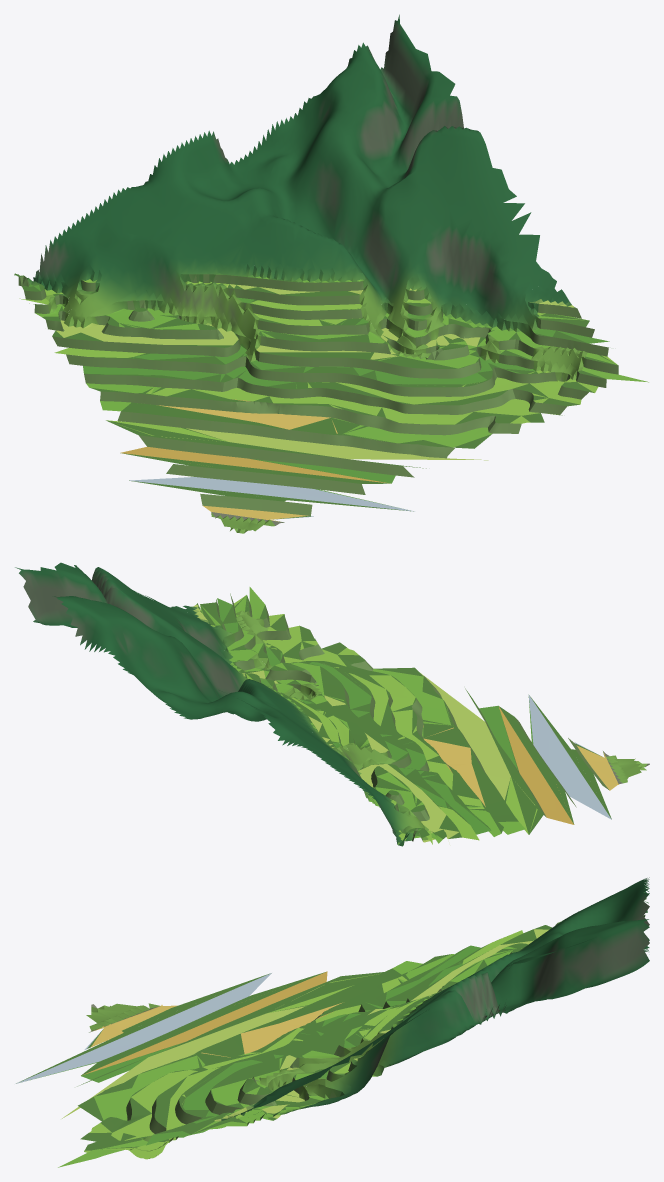
Rendered from payo_land_xm3_y5.glb.
3 renders of one model, top to bottom at view 1: azimuth 30°, elevation 25°; view 2: azimuth 150°, elevation 25°; view 3: azimuth 270°, elevation 25°, orthographic. The views are drawn at different scales.
Parts seen in each view (by area): view 1: payo_land_xm3_y5; view 2: payo_land_xm3_y5; view 3: payo_land_xm3_y5.
Part boxes in pixels (left/top/right/bottom): payo_land_xm3_y5: left=14, top=14, right=648, bottom=533; payo_land_xm3_y5: left=15, top=562, right=649, bottom=846; payo_land_xm3_y5: left=15, top=877, right=649, bottom=1167.
Size of the model in its own units: 288 by 166 by 294.
